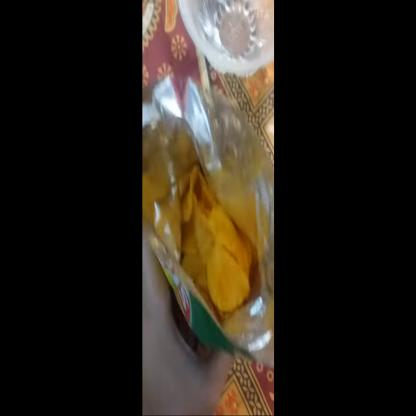chile_limon: (142, 108, 278, 364)
